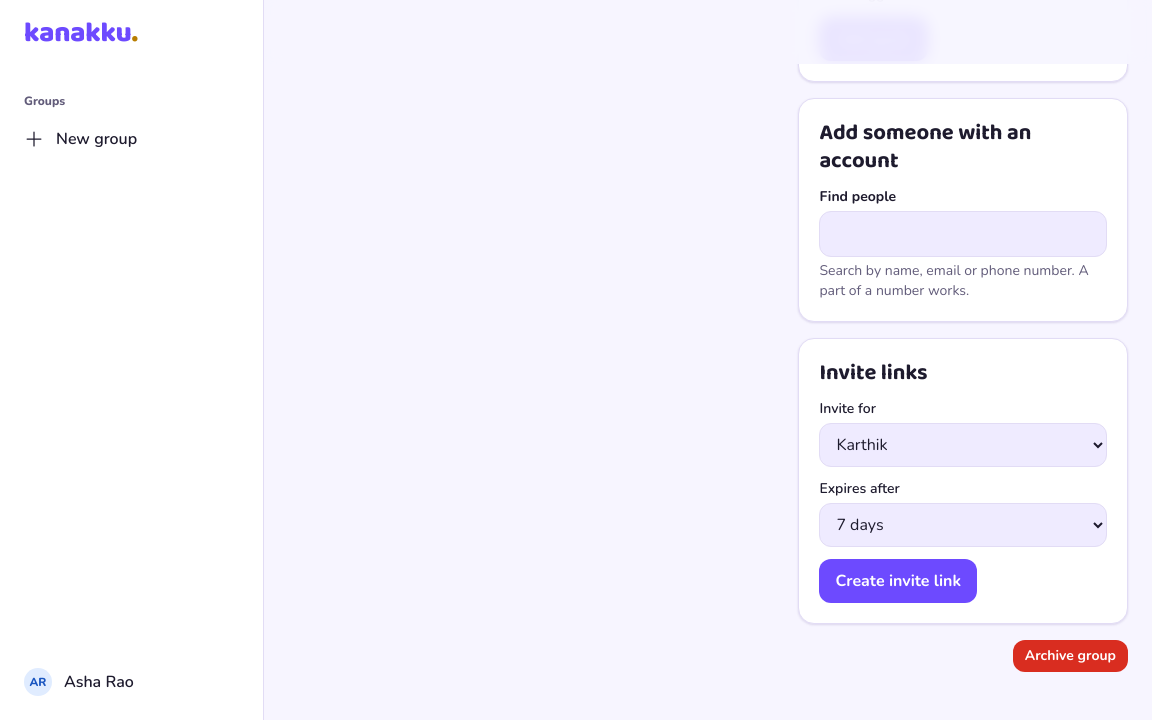
Test: InvitesPanel › creates a link with a 7 day default, shows it once in the fragment, and copies it
(page scrolled)
Expected: the dropdown labelled "Expires after" shows "7 days", [819,503,1107,547]
Click the button "Create invite link". click: click(898, 581)
box: [819,559,977,603]
(page scrolled)
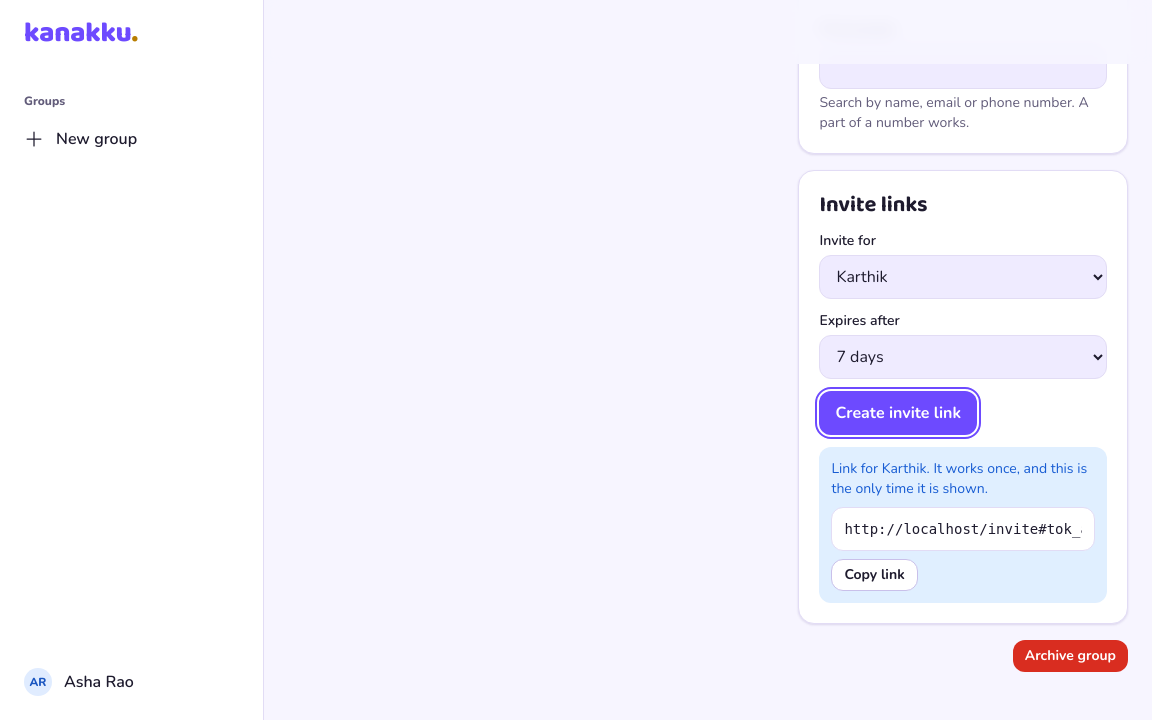
Click the button "Copy link". click: click(875, 575)
box: [831,559,918,591]
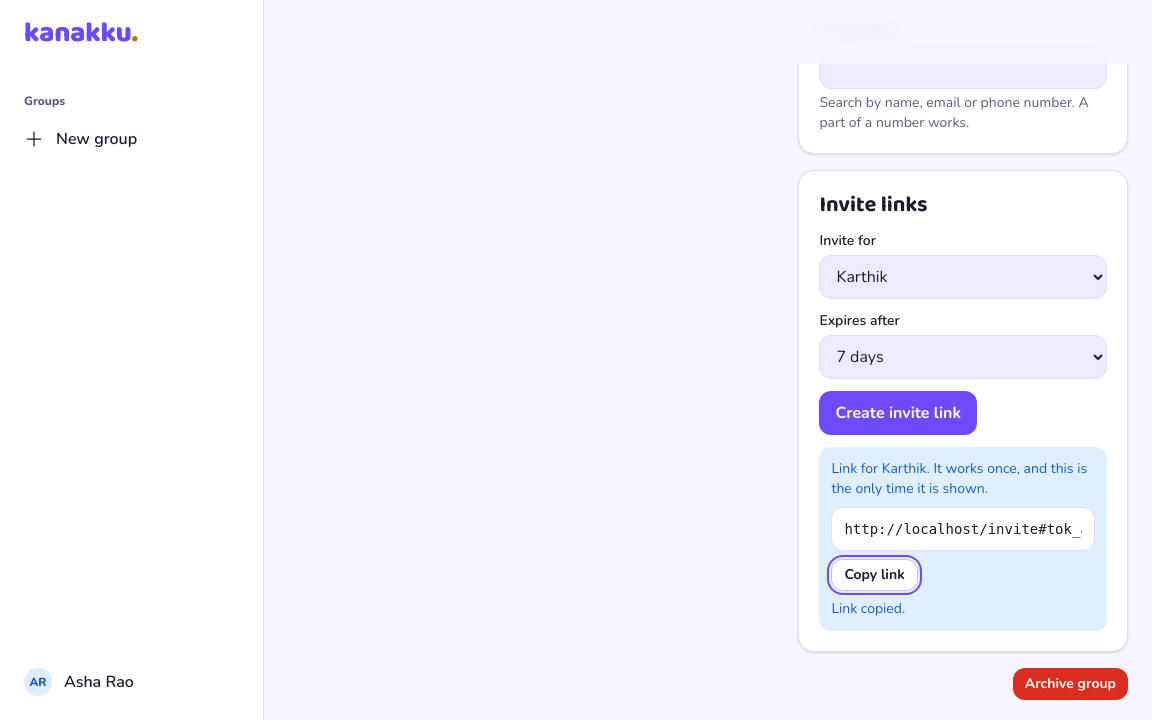
Result: the text "Link copied." is shown at [831,599,905,618]
